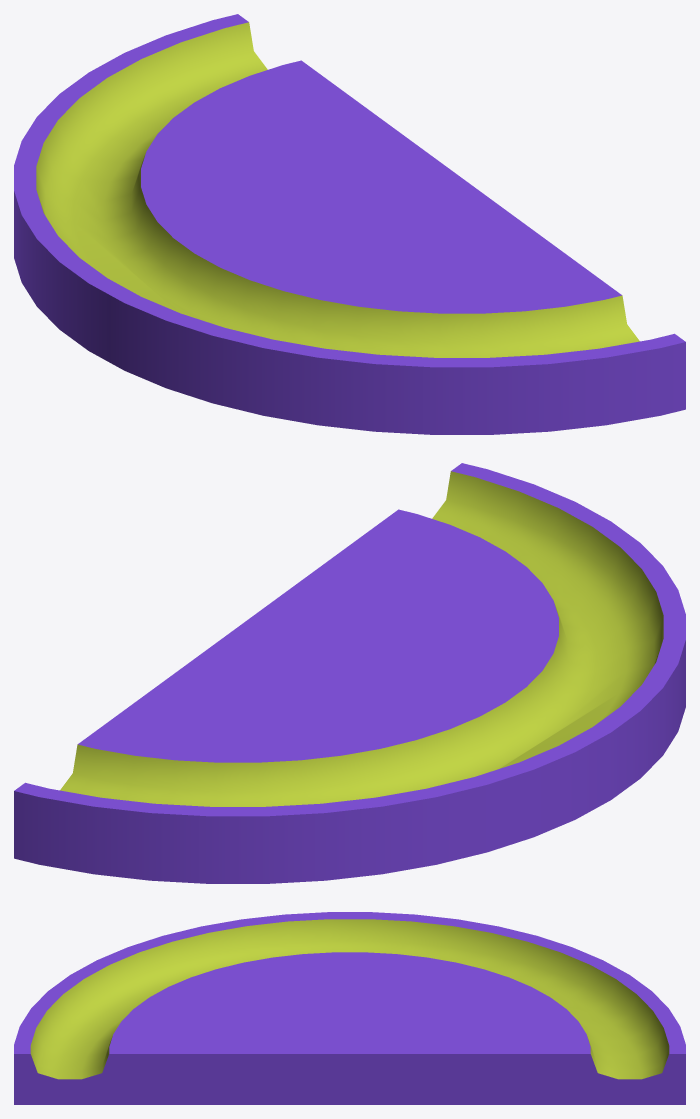
File: bend_solid_large-col.dae
3 renders of one model, top to bottom at view 1: azimuth 30°, elevation 25°; view 2: azimuth 150°, elevation 25°; view 3: azimuth 270°, elevation 25°, orthographic. The views are drawn at different scales.
Parts seen in each view (by area): view 1: bend_solid_large-col; view 2: bend_solid_large-col; view 3: bend_solid_large-col.
Part boxes in pixels (left/top/right/bottom): bend_solid_large-col: left=14, top=14, right=685, bottom=434; bend_solid_large-col: left=14, top=463, right=685, bottom=883; bend_solid_large-col: left=14, top=912, right=685, bottom=1104.
Bounding box in the file's own units: 3 × 6 × 0.5.
